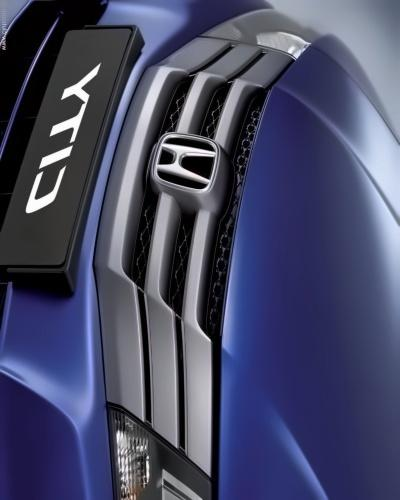Car hood: (216, 28, 400, 500)
